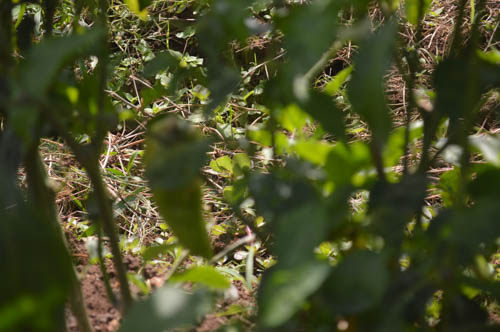ChiliPepper: (146, 172, 213, 259)
